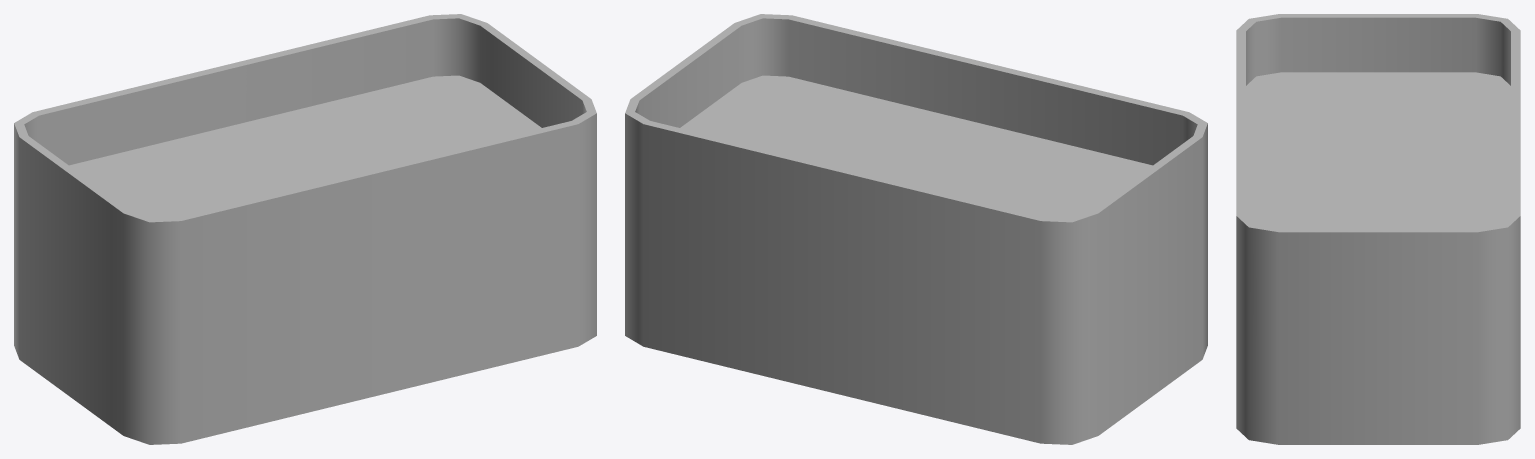
The model's file is shop_025.glb.
3 renders of one model, left to right at view 1: azimuth 30°, elevation 25°; view 2: azimuth 150°, elevation 25°; view 3: azimuth 270°, elevation 25°, orthographic. The views are drawn at different scales.
Parts seen in each view (by area): view 1: shop_025; view 2: shop_025; view 3: shop_025.
Part boxes in pixels (<box>): shop_025: <box>14,14,596,444</box>; shop_025: <box>625,14,1207,444</box>; shop_025: <box>1236,14,1520,444</box>.
Bounding box in the file's own units: 1.34 × 0.608 × 0.7362.
Materials: 1 (1 with a texture image).
